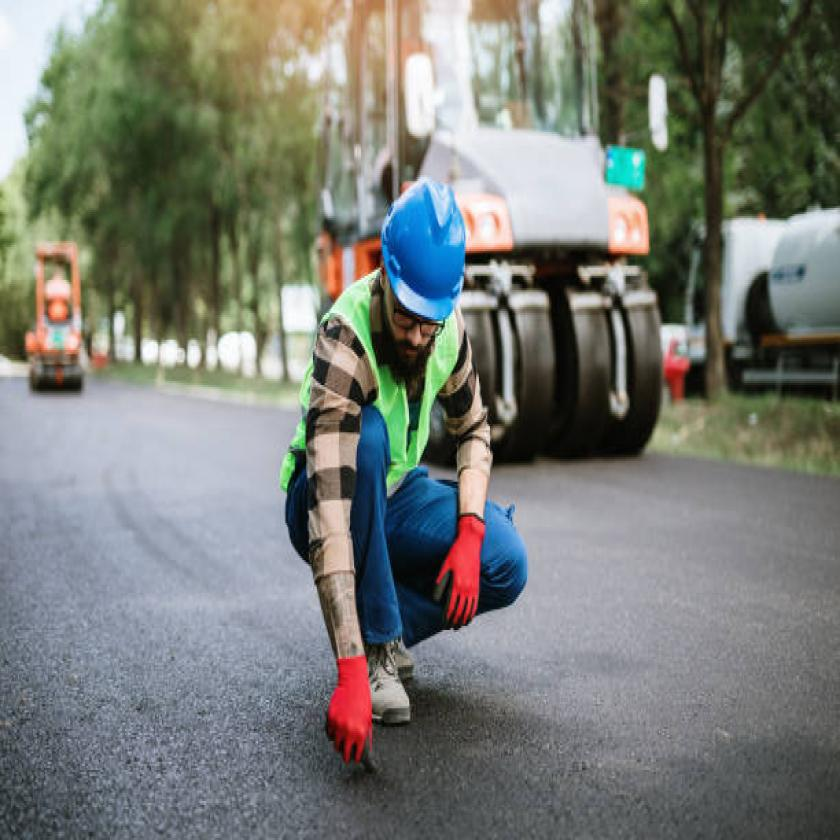Con_casco: (378, 173, 469, 383)
